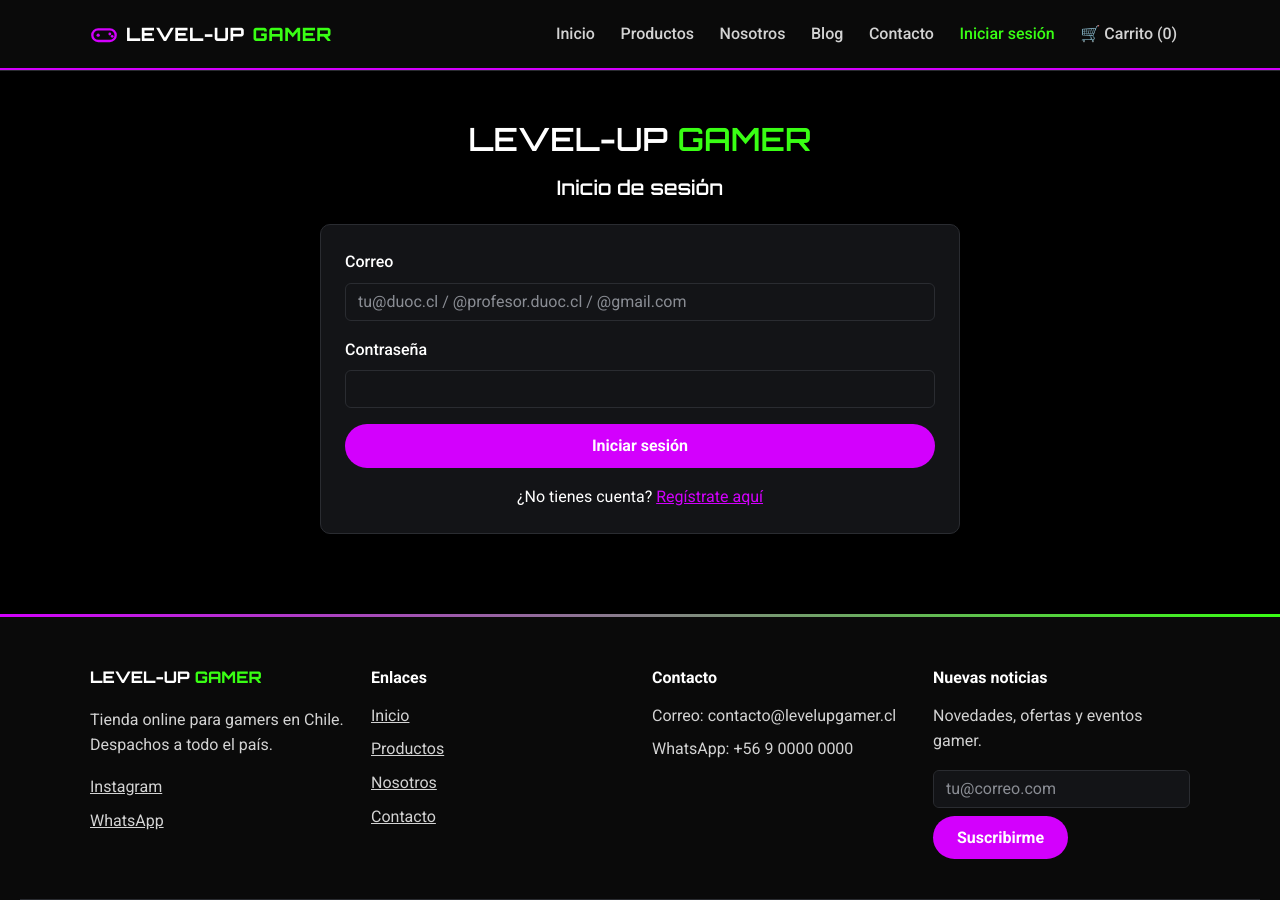
Test: <Login /> (formulario de inicio de sesión) › con credenciales correctas inicia sesión y abre el perfil
Step 1. Type "ANA@gmail.com" into the field labelled "Correo" → (640,302), box [345,283,935,321]
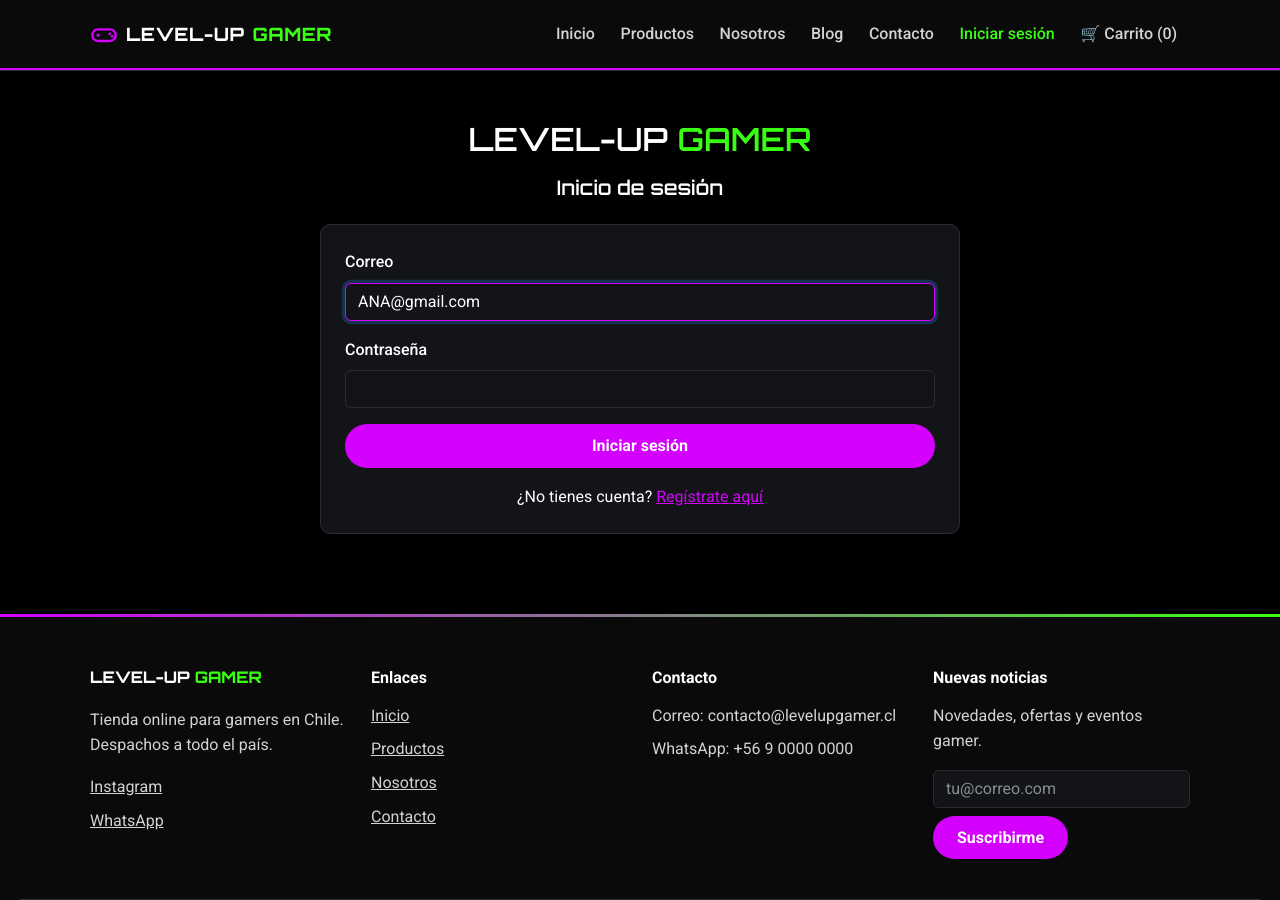
Step 2. Type "1234" into the password field labelled "Contraseña" → (640,389), box [345,370,935,408]
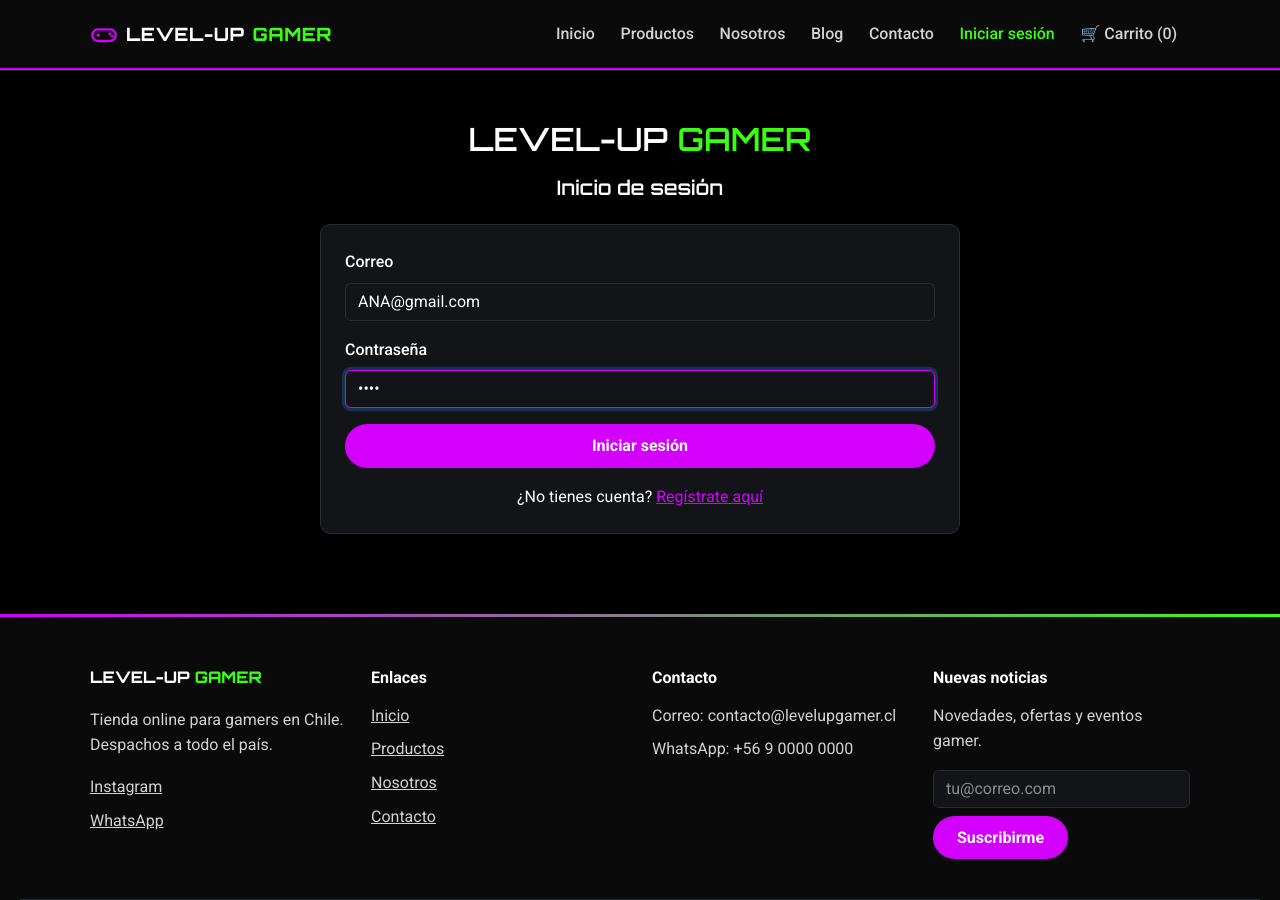
Step 3. Click the button "Iniciar sesión" → (640,446), box [345,424,935,468]
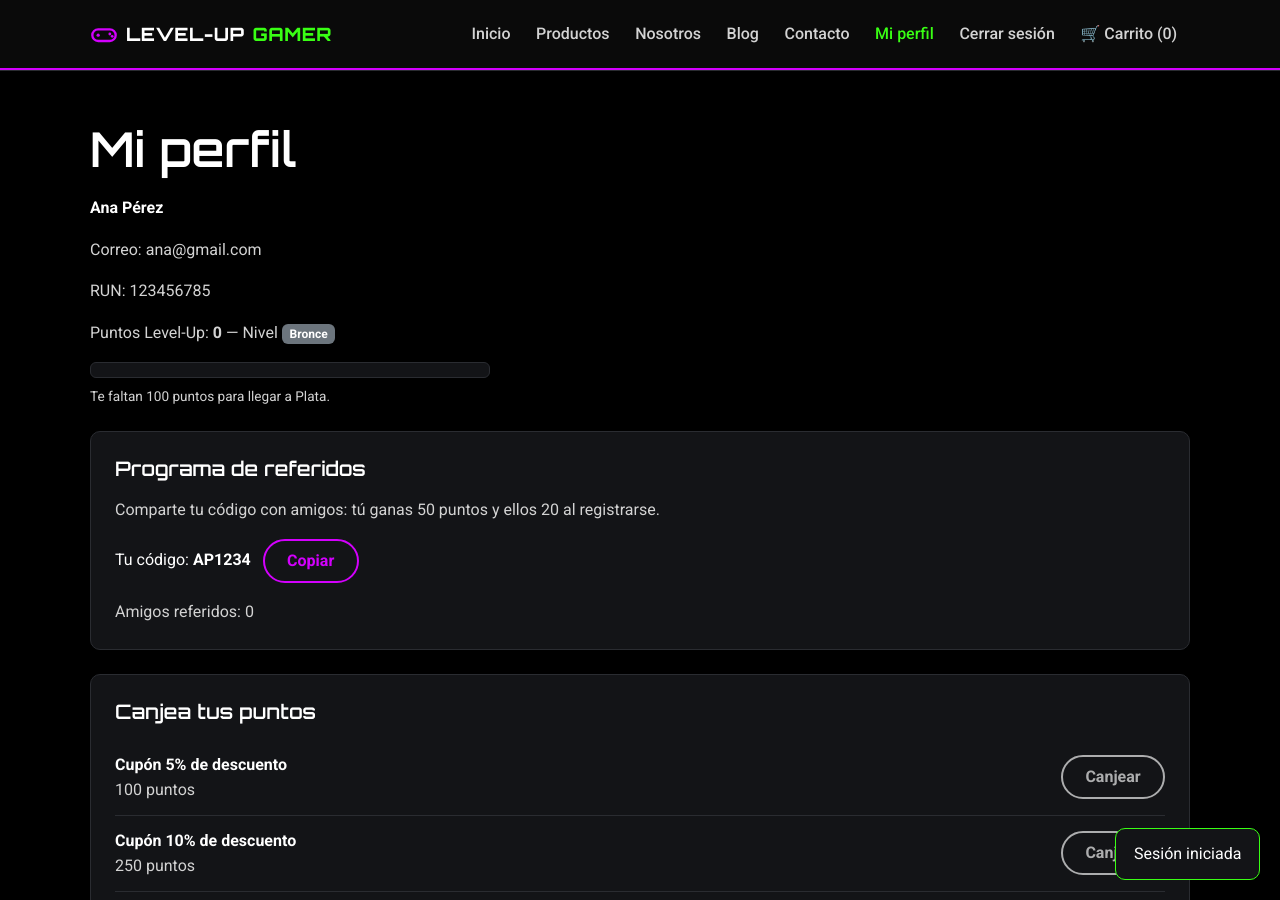
Expected: the text "Sesión iniciada" is shown, [1115,828,1260,880]
Expected: the heading "Mi perfil" is shown, [90,118,297,179]
